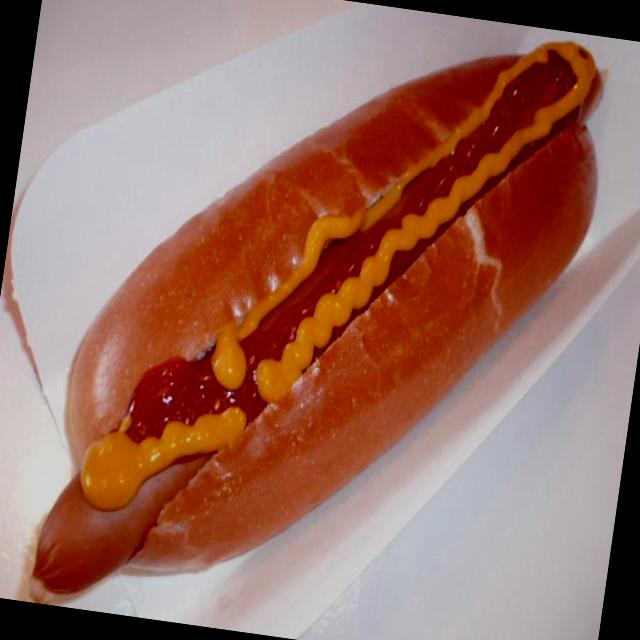Hot Dog: (14, 0, 627, 640)
